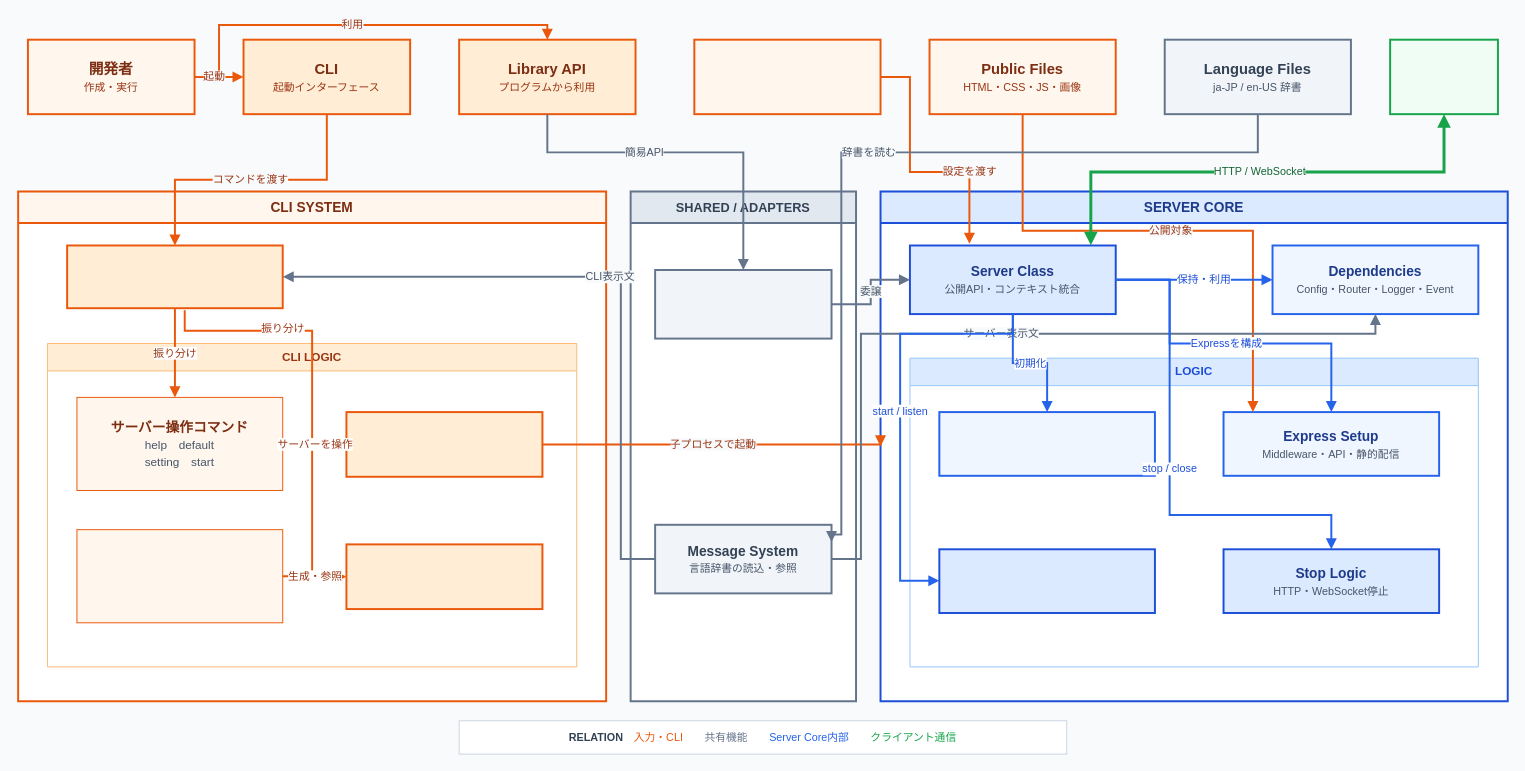
The diagram is 1525 pixels wide and 771 high, and some of its shapes have lost their labels. The shapes that lost their labels are listed below. From the top down, each one's centre as x and y in pixels, then its label:
At [787,76]: "Config root・port・api・公開範囲".
At [1443,76]: "Browser HTTP / WebSocket".
At [174,276]: "Command Router 引数解析・コマンド選択".
At [743,304]: "Short Handler 簡易APIラッパー".
At [444,444]: "プロセス管理 子プロセス起動・停止".
At [1046,443]: "Server Setup 設定・言語・公開パス".
At [179,576]: "プロジェクト操作コマンド create init info config".
At [444,576]: "テンプレート生成 プロジェクト・設定作成".
At [1046,580]: "Start Logic ポート確保・HTTP待受開始".
